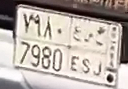0: (50, 26, 65, 72)
7: (19, 14, 32, 65)
8: (40, 17, 53, 70)
9: (30, 14, 43, 68)
E: (69, 25, 82, 72)
J: (92, 28, 106, 77)
S: (82, 32, 95, 75)
